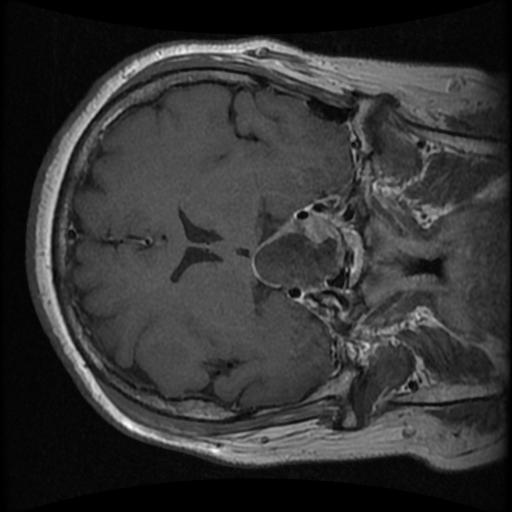pituitary tumour: (249, 222, 344, 291)
